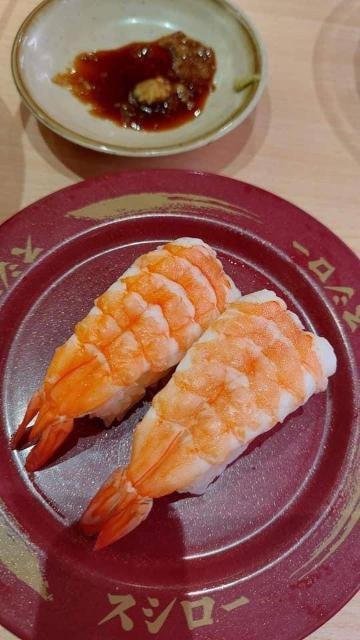janred: (0, 173, 352, 615)
